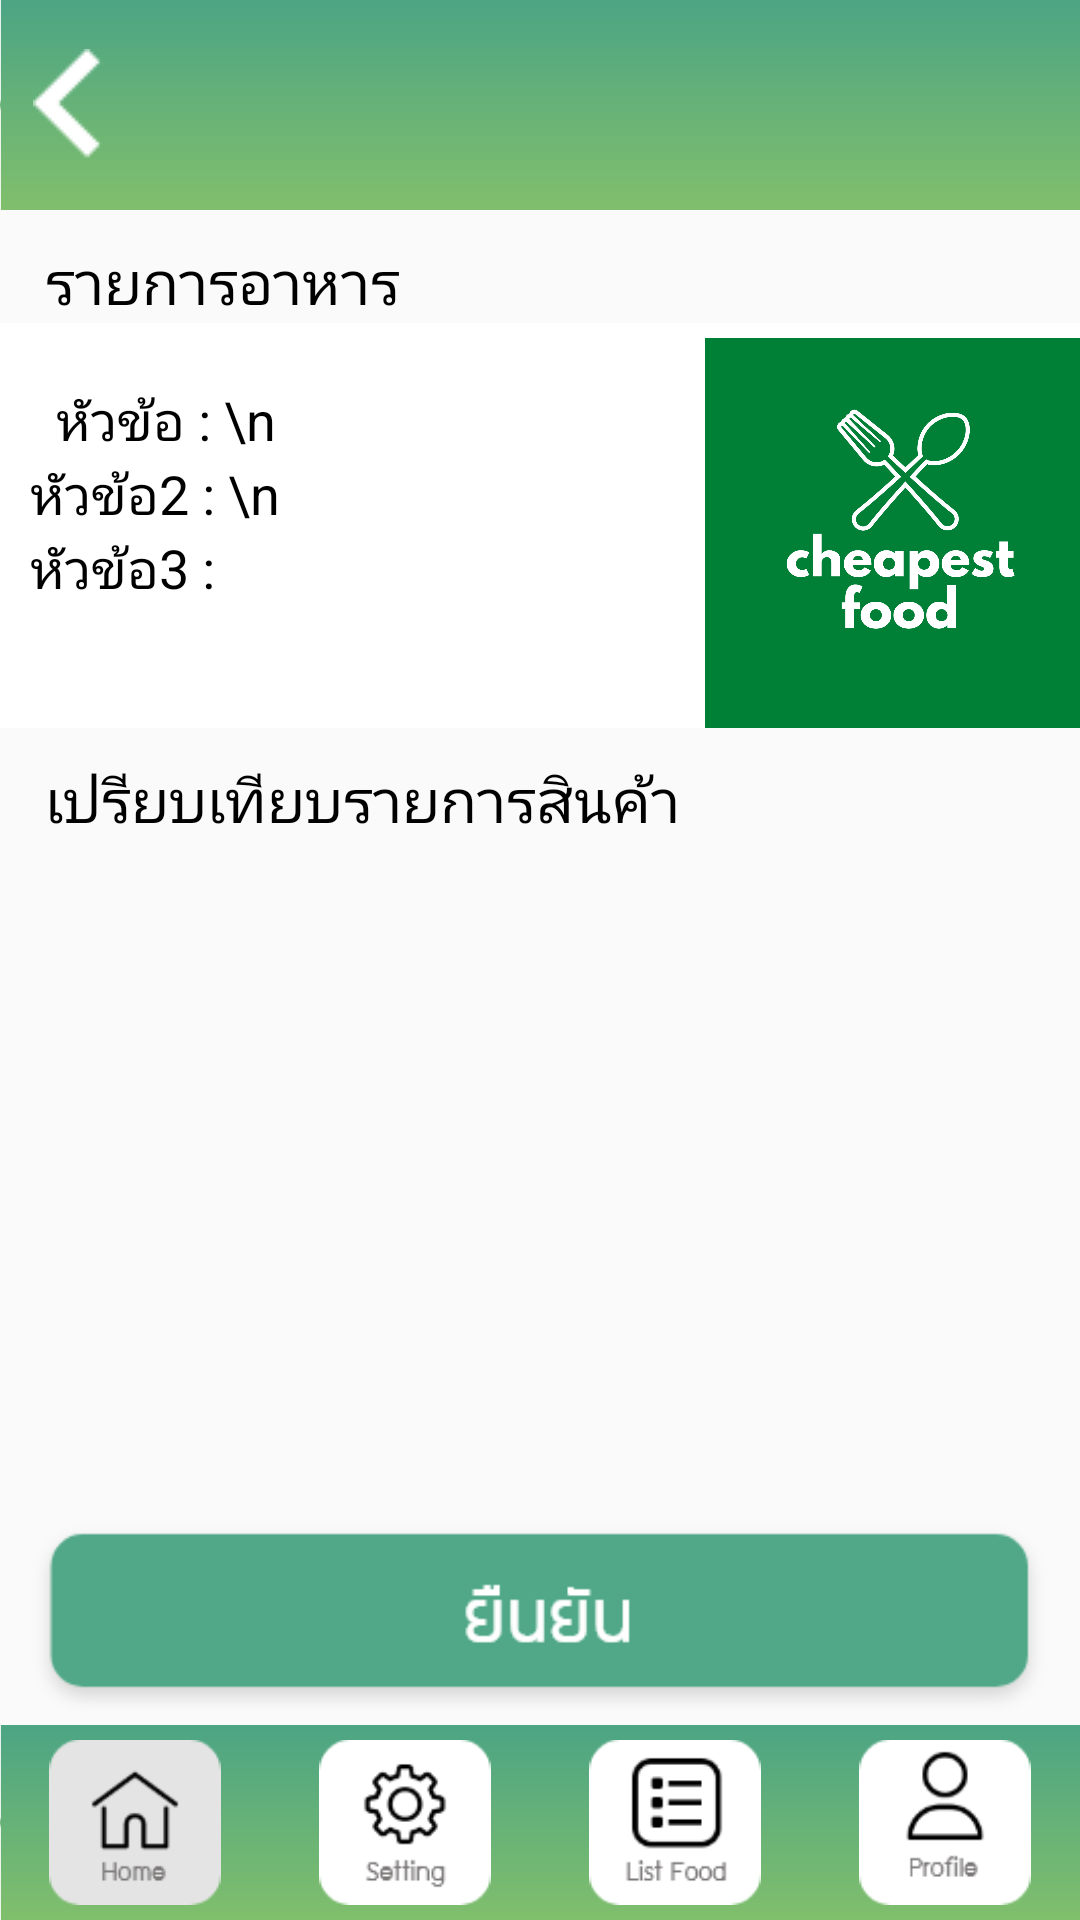

Icons on this 1080px x 1920px Android screen, each with the point to tap as (x=x, y=y):
icbtnback: (x=67, y=104)
